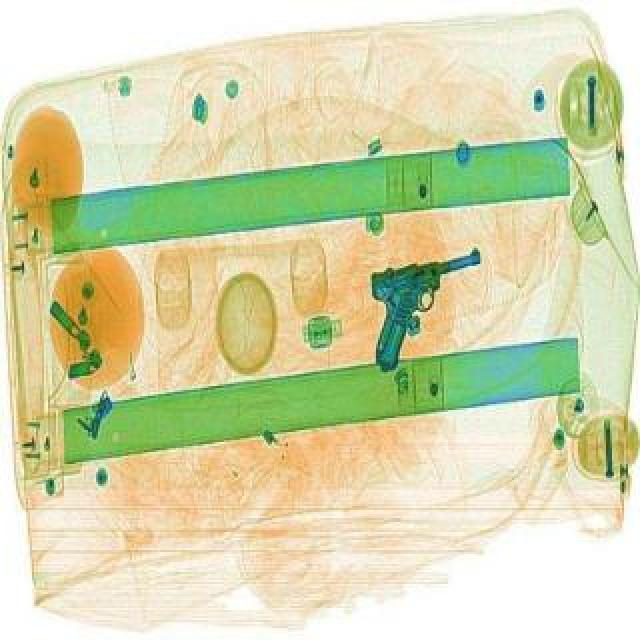gun: (344, 234, 512, 370)
